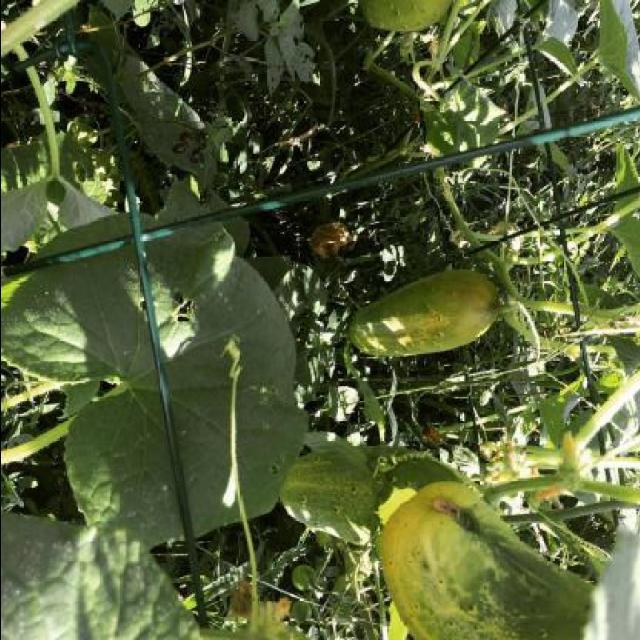Cucumber: (371, 478, 595, 628), (280, 443, 466, 546), (343, 267, 499, 358), (361, 0, 449, 32)
